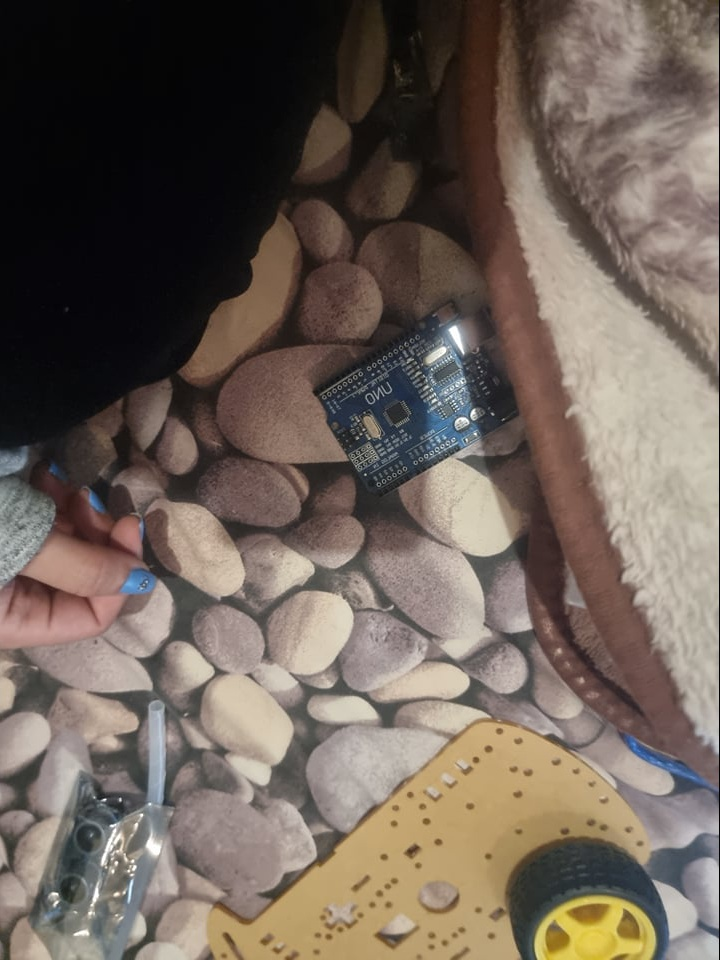SENSOR: (54, 804, 119, 922)
UNO R3: (316, 301, 519, 496)
